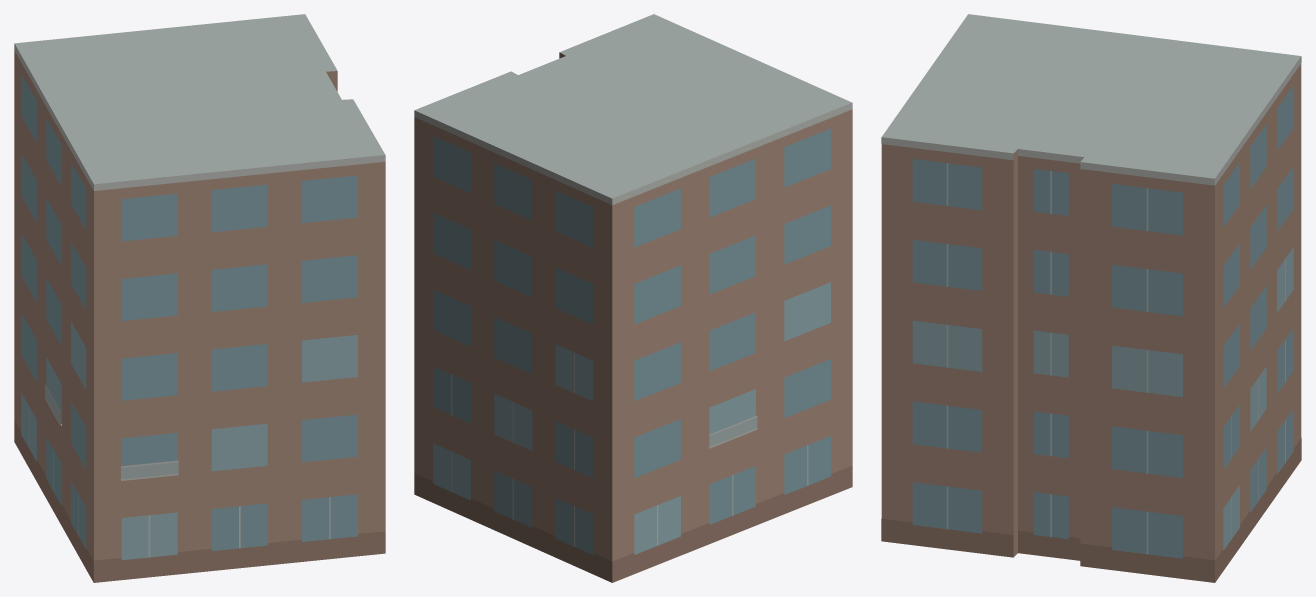
Rendered from survey-upis-32974521.glb.
3 views of the same model, side by side, from view 1: azimuth 30°, elevation 25°; view 2: azimuth 150°, elevation 25°; view 3: azimuth 270°, elevation 25° (orthographic). The views are drawn at different scales.
Visible parts, largest first — view 1: survey-upis-32974521.tmp; view 2: survey-upis-32974521.tmp; view 3: survey-upis-32974521.tmp.
Part boxes in pixels (x1,y1,x2,y2): survey-upis-32974521.tmp: [14, 14, 385, 582]; survey-upis-32974521.tmp: [414, 14, 852, 582]; survey-upis-32974521.tmp: [881, 14, 1301, 582].
Bounding box in the file's own units: 12.51 × 14.3 × 13.48.
